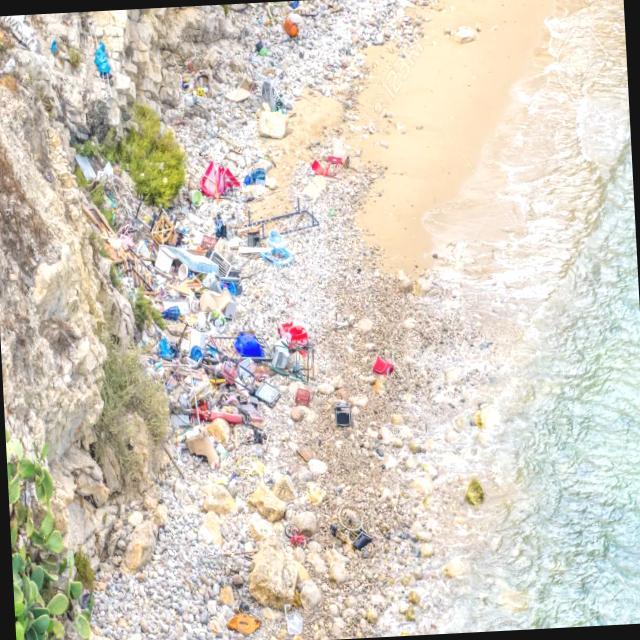garbage: (110, 149, 328, 470)
